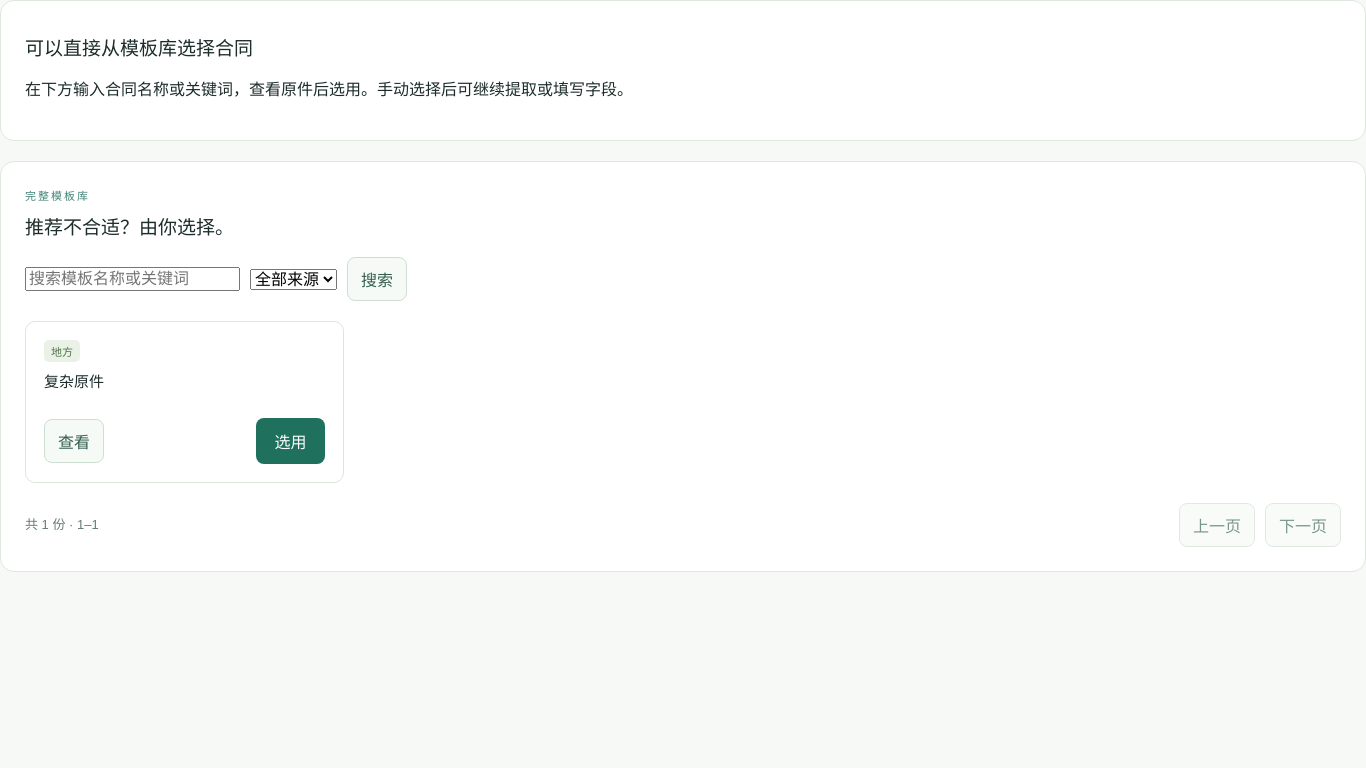
manual template choice › shows unsupported structures and disables selection in template details
Step 1. Click the button with class "secondary" showing "查看" → point(74, 441), box x1=44 y1=419 x2=104 y2=463
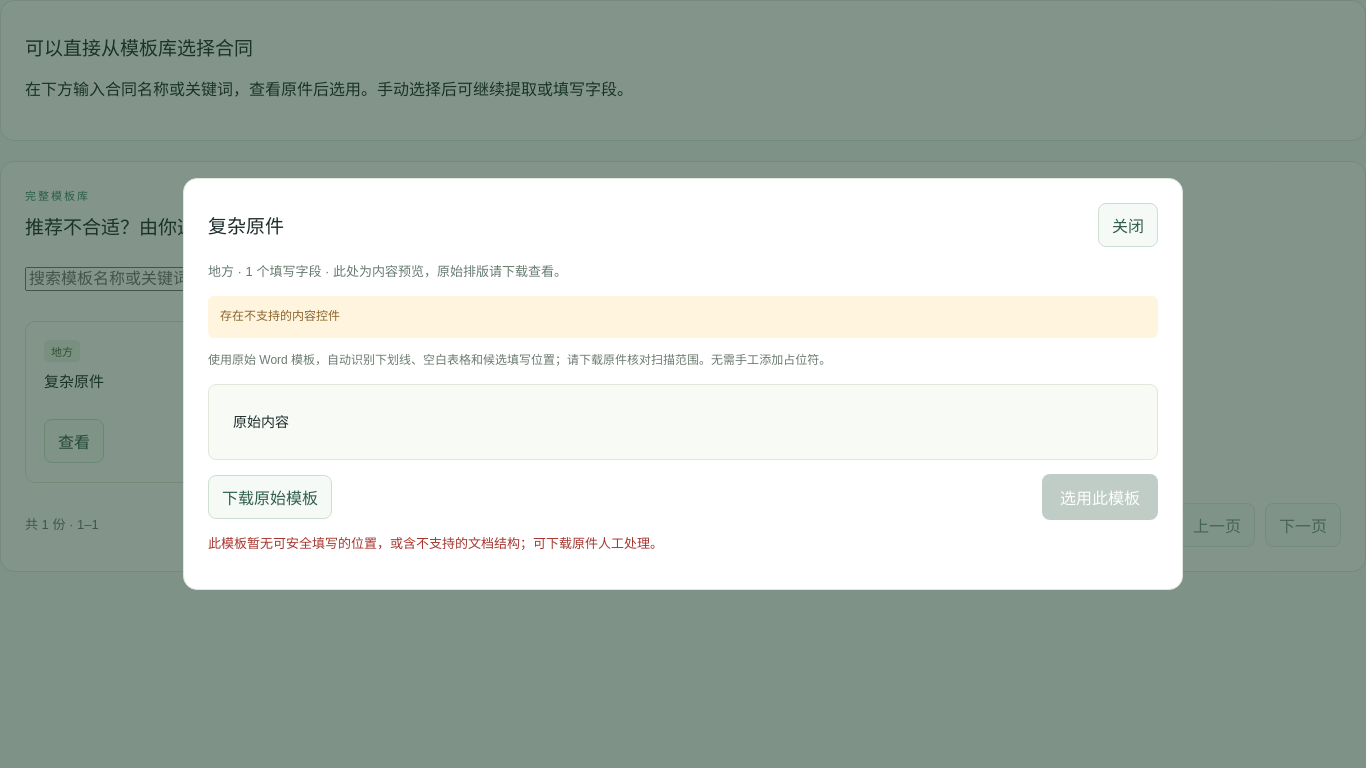
expect the text "存在不支持的内容控件" is shown: met, box x1=208 y1=296 x2=1158 y2=338
expect the button "选用此模板" is disabled: met, box x1=1042 y1=474 x2=1158 y2=520
